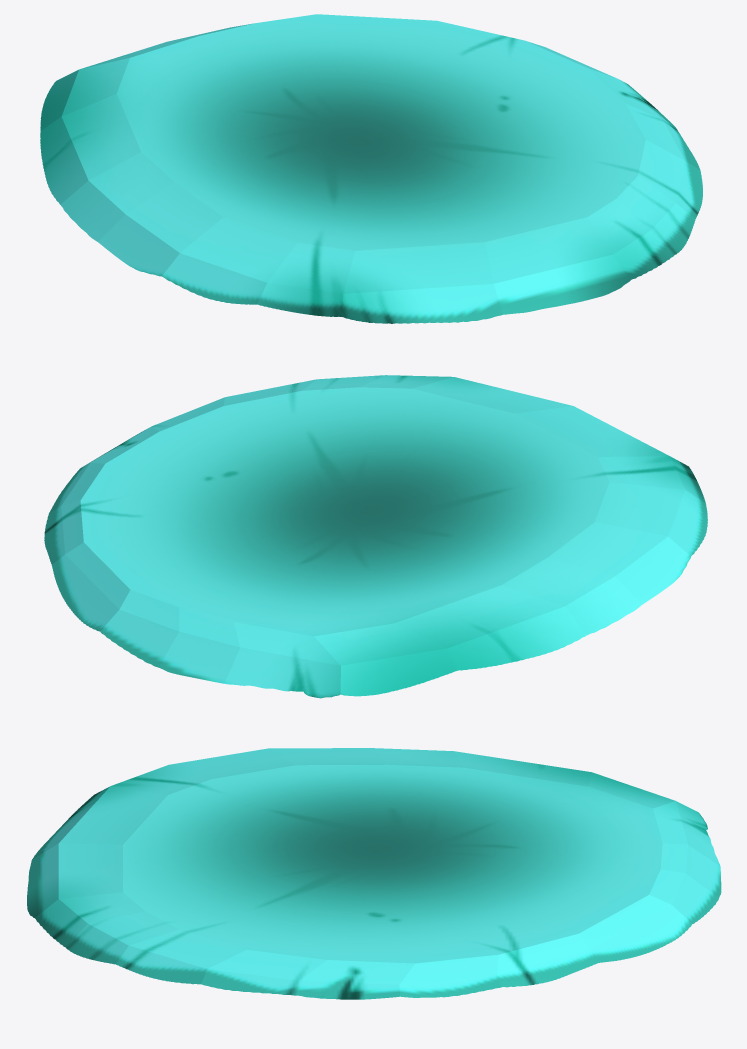
Rendered from mushroom1.fbx.
3 views of the same model, one above another, from view 1: azimuth 30°, elevation 25°; view 2: azimuth 150°, elevation 25°; view 3: azimuth 270°, elevation 25° (orthographic). The views are drawn at different scales.
Visible parts, largest first — view 1: Plane001; view 2: Plane001; view 3: Plane001.
Part boxes in pixels (x1,y1,x2,y2): Plane001: (40, 14, 702, 323); Plane001: (44, 375, 707, 698); Plane001: (27, 748, 721, 999).
Bounding box in the file's own units: 29.33 × 2.06 × 32.42.
